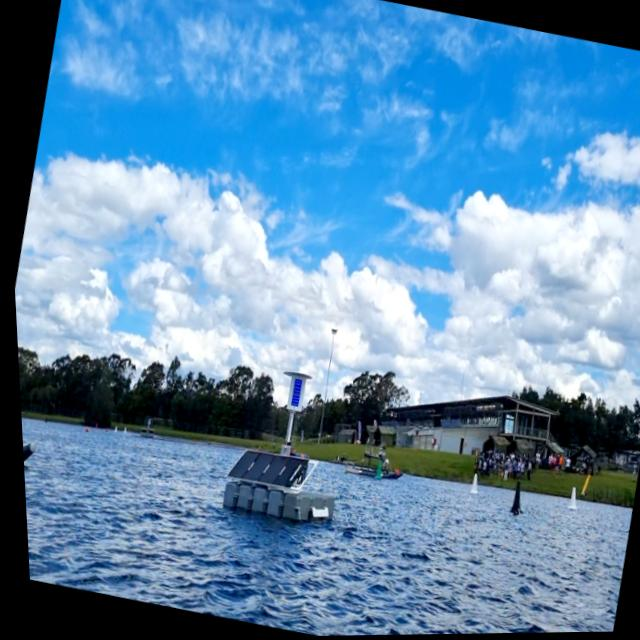led: (281, 377, 302, 410)
